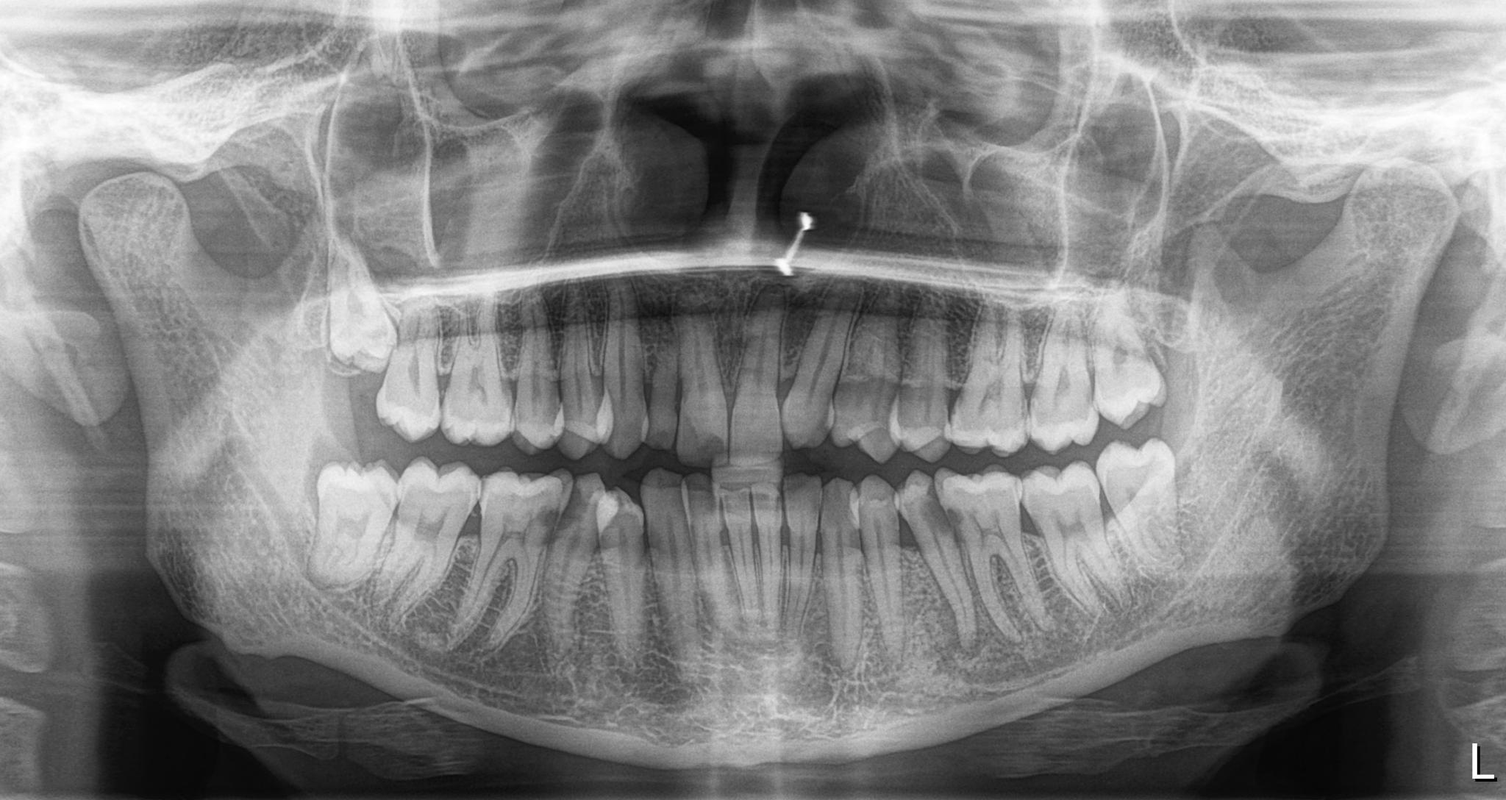Dental Caries: (923, 502, 988, 563), (533, 502, 593, 557), (814, 517, 885, 562)
Impacted Third Molar: (327, 261, 401, 375)
